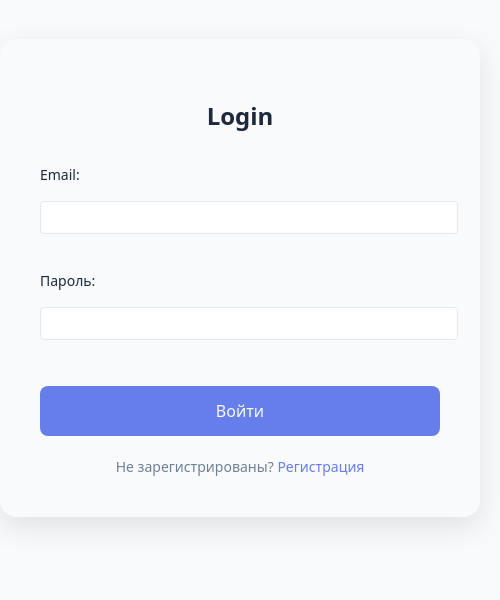
AuthForm › переключается обратно на Login из режима регистрации
Click the button "Регистрация".
click(321, 467)  # box [277,458,364,476]
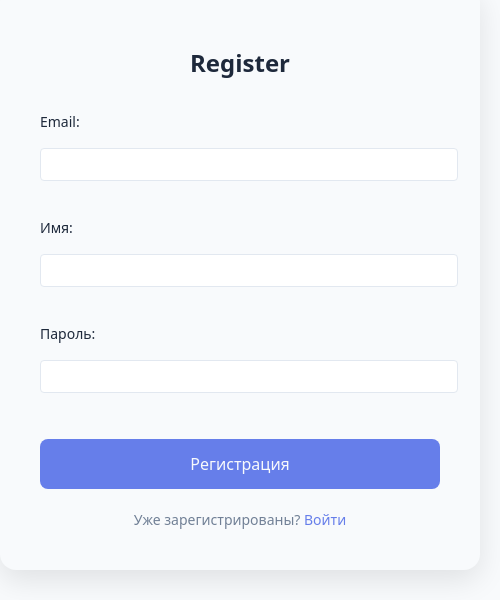
Result: the heading "Register" is shown at [190,46,290,80]
Click the button "Войти".
click(325, 520)  # box [304,510,346,530]
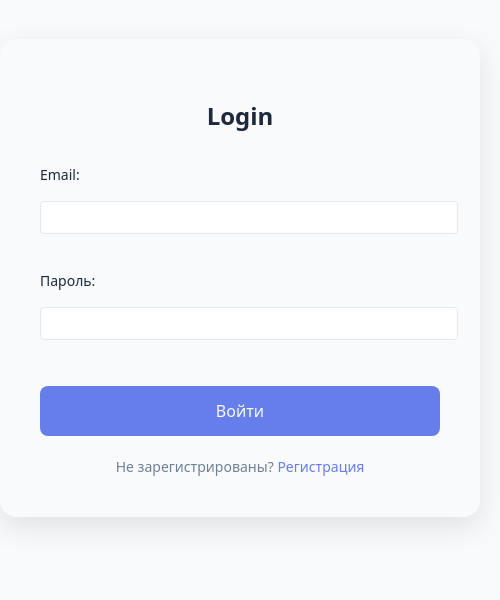
Result: the heading "Login" is shown at [207,100,273,132]
